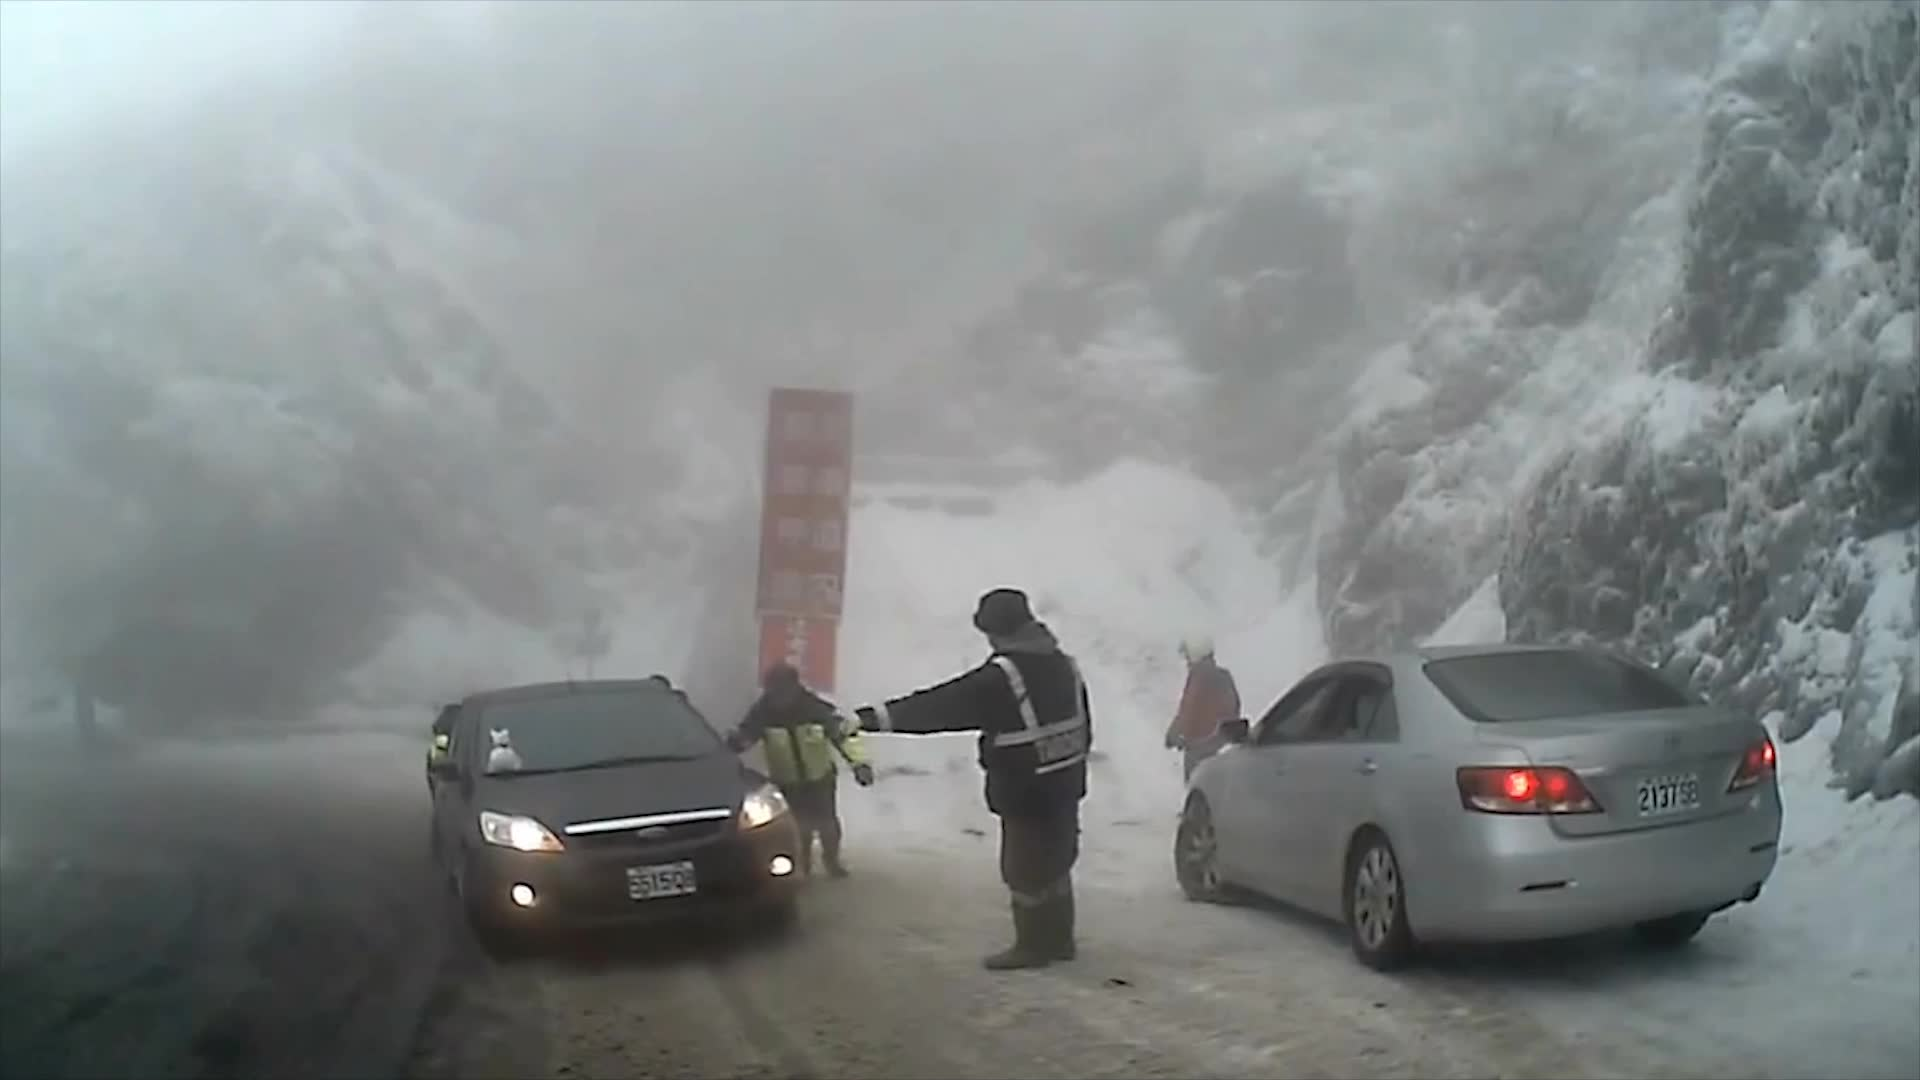pedestrian: (841, 589, 1097, 974), (729, 668, 882, 883), (1160, 629, 1243, 824)
vehicle: (1173, 644, 1783, 970), (420, 678, 806, 962)
